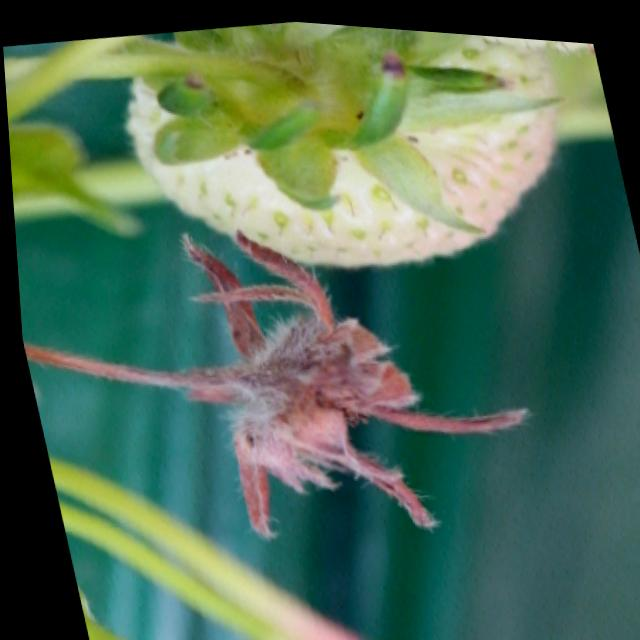Gray Mold: (152, 226, 526, 537)
